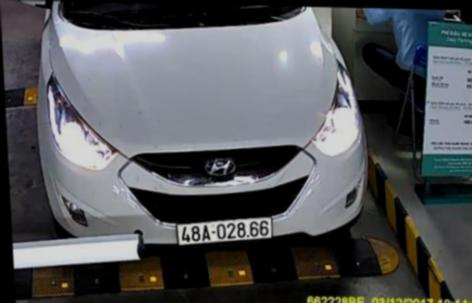License_Plate: (174, 217, 273, 247)
